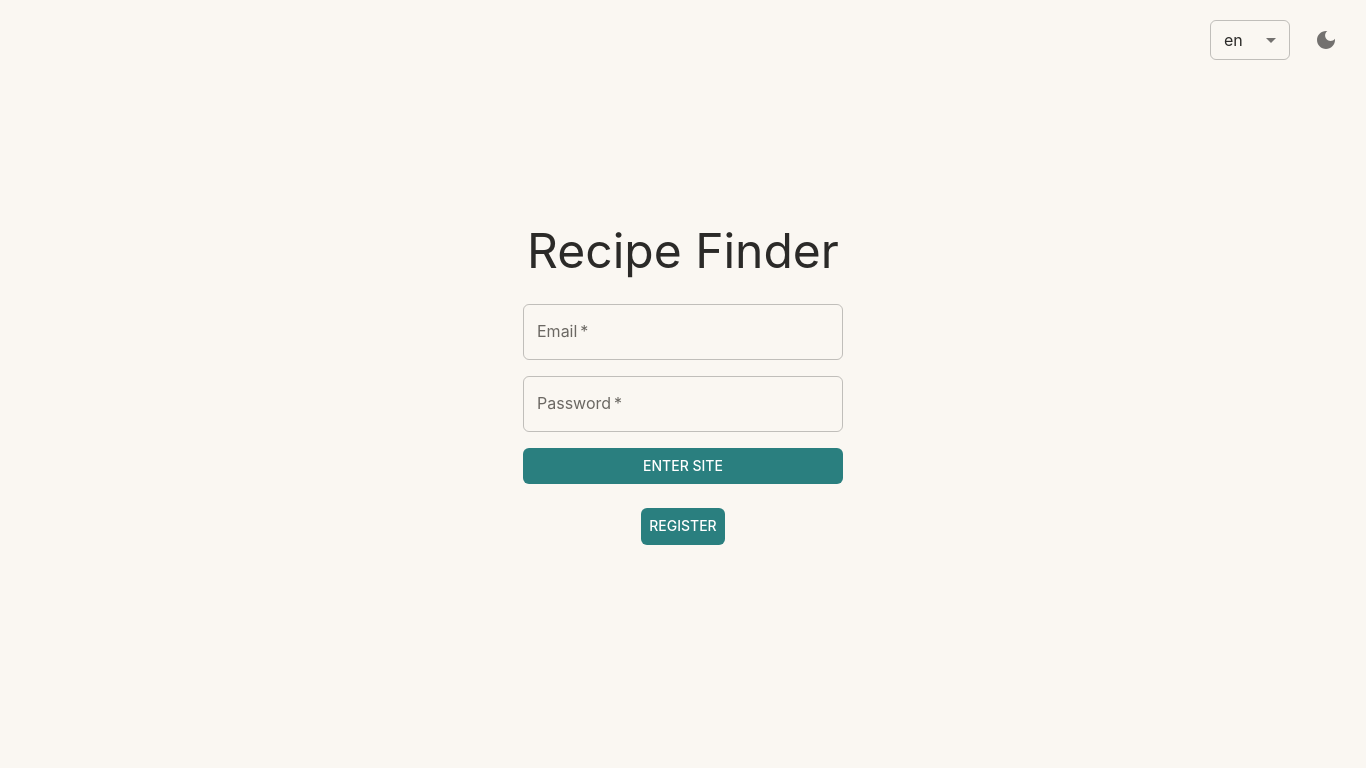
Test: Login flow › logs in and lands on the search page with ingredients
Fill and submit the form
In the field labelled "Email *": (683, 332) [523,304,843,360], type "test@test.com"
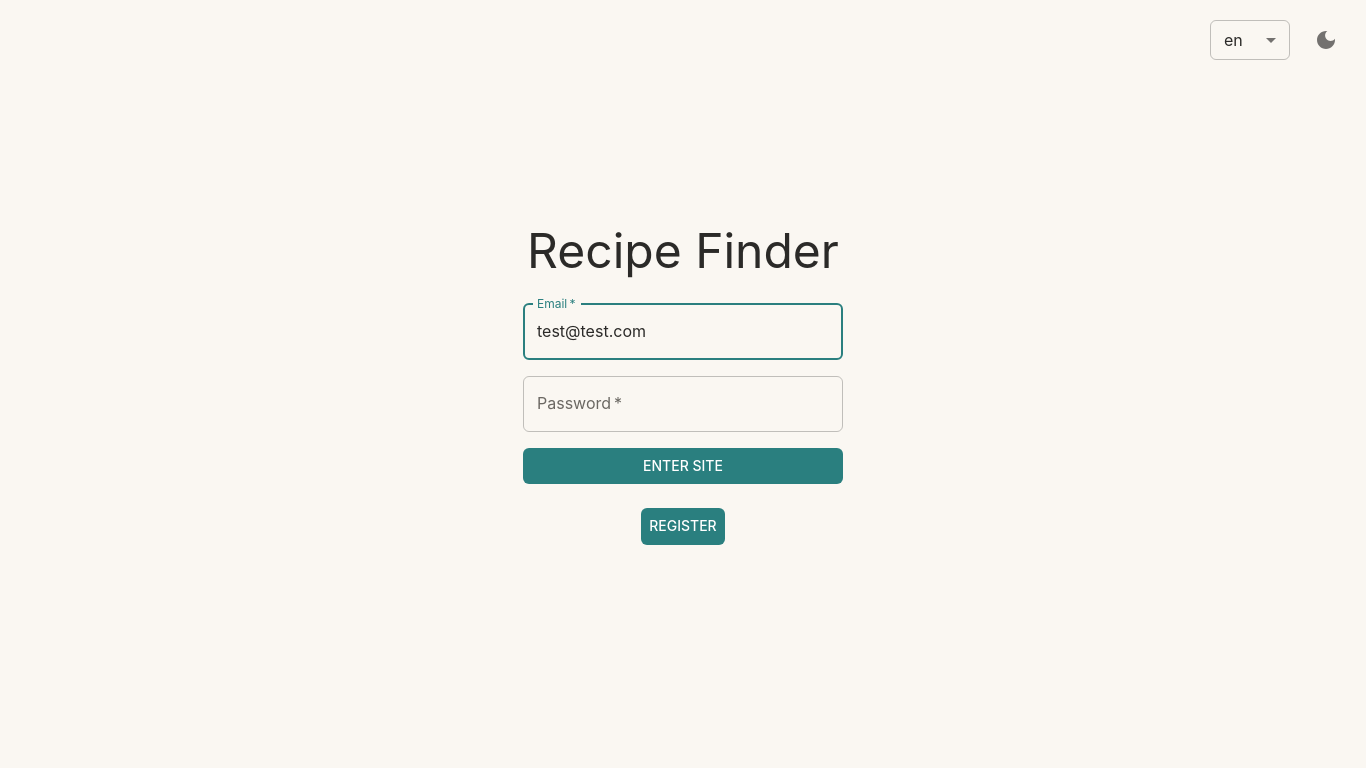
In the password field labelled "Password *": (683, 404) [523,376,843,432], type "password123"
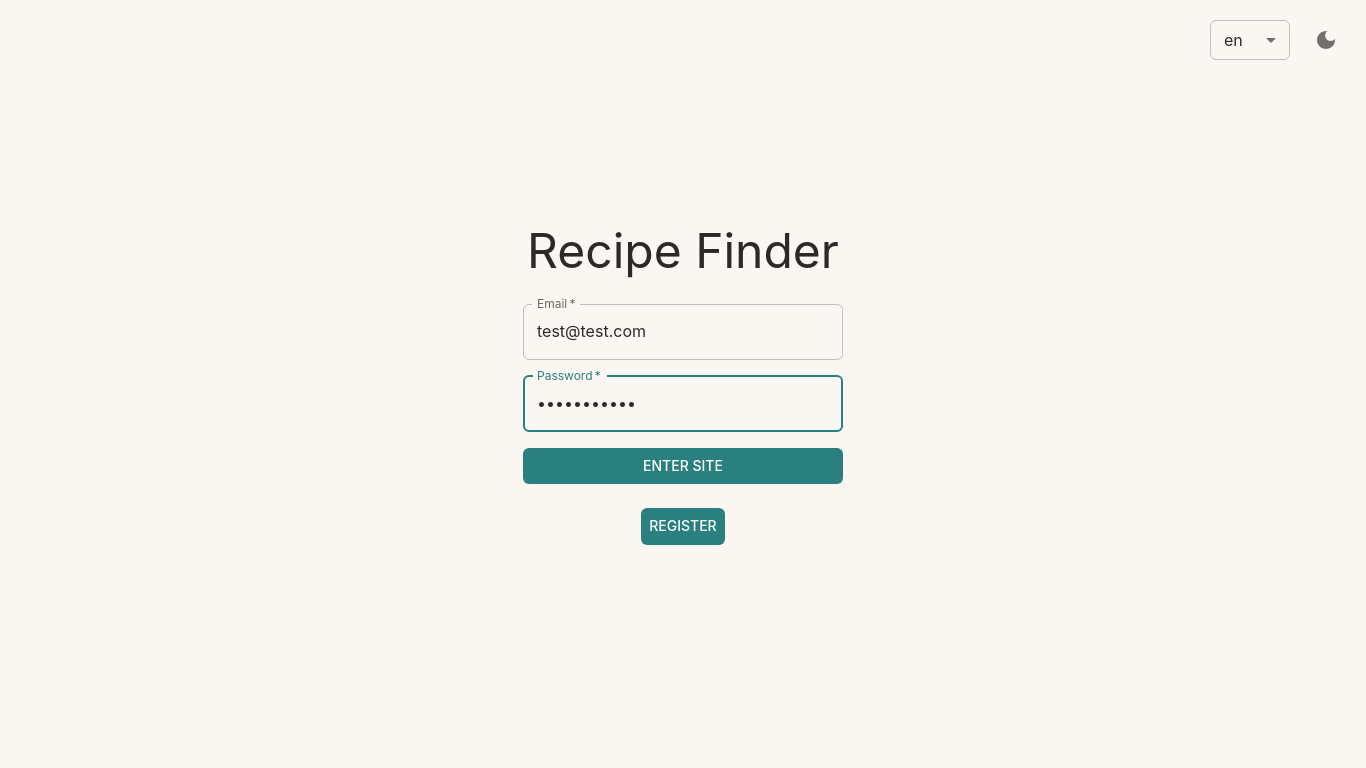
Click the submit button: (683, 467) [523,448,843,485]
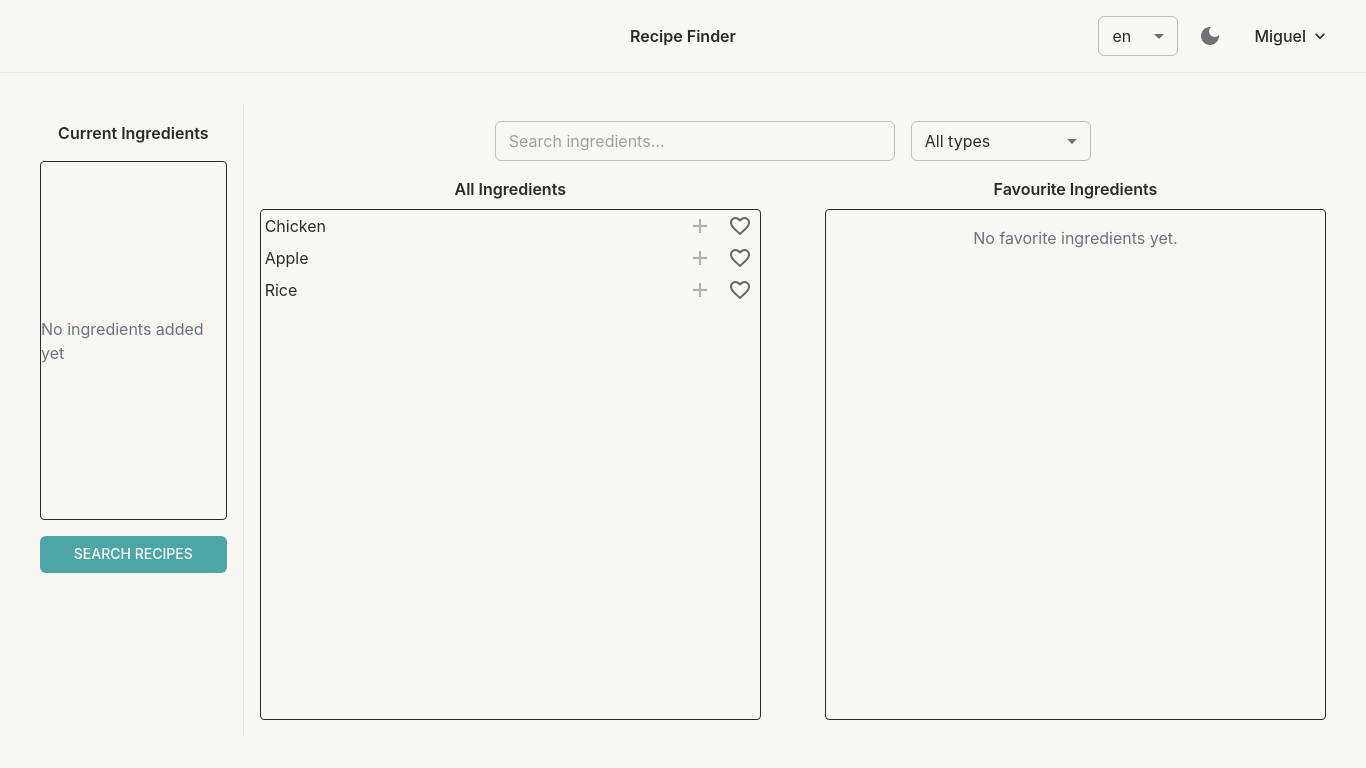
Result: the text "Chicken" is shown at [261,210,330,242]
Result: the text "Apple" is shown at [265,248,308,268]
